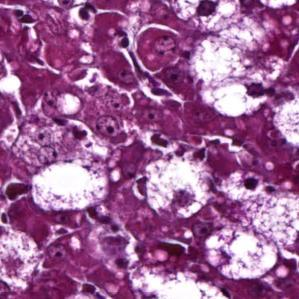ballooning: (29, 158, 111, 216), (204, 225, 280, 282)
